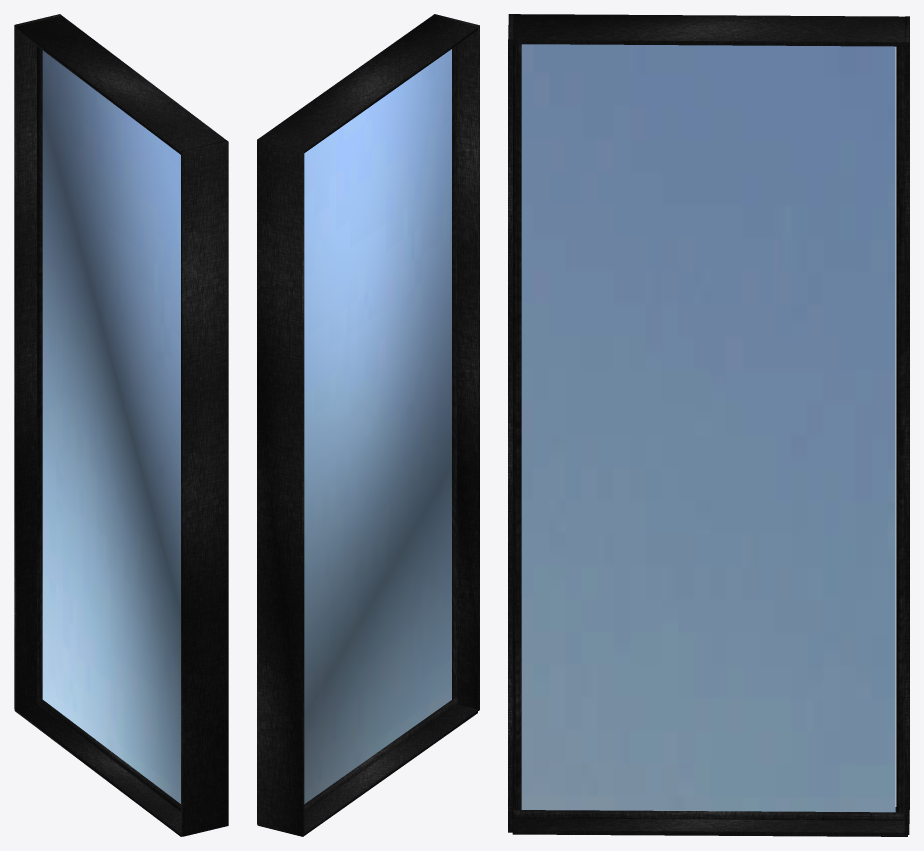
The model's file is Ventana2.obj.
3 views of the same model, side by side, from view 1: azimuth 30°, elevation 25°; view 2: azimuth 150°, elevation 25°; view 3: azimuth 270°, elevation 25° (orthographic). The views are drawn at different scales.
Parts seen in each view (by area): view 1: polySurface57; view 2: polySurface57; view 3: polySurface57.
Boxes of the visible parts, x1,y1,x2,y2 form: polySurface57: [14, 14, 228, 836]; polySurface57: [257, 14, 479, 836]; polySurface57: [508, 14, 909, 836].
Bounding box in the file's own units: 0.148 × 1.94 × 0.8892.
Materials: 2 (2 with a texture image).
